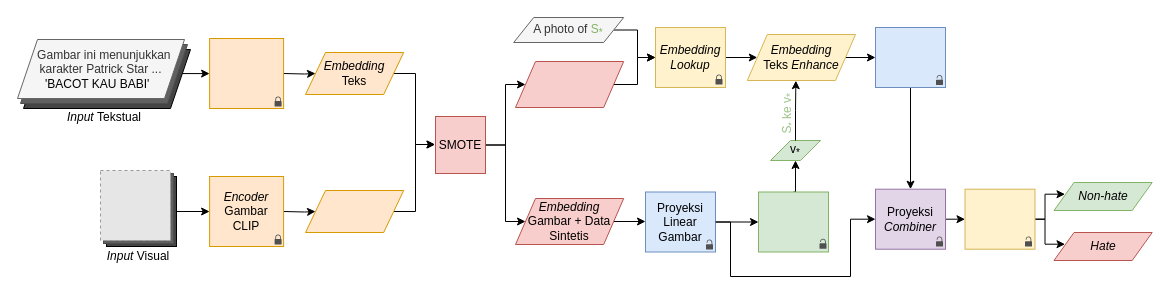
This 1170x302 diagram has some shape labels left out. Grey dashed boxes stand in for pictures. The centre of each missing label's shape, as x and y in pixels:
"Embedding Gambar" goes at (354,211).
"Embedding Teks + Data Sintetis" goes at (569,84).
"Encoder Teks CLIP atau m-CLIP" goes at (246,73).
"Inversi Tekstual ( Φ )" goes at (793,221).
"MLP Classifier" goes at (999,218).
"Proyeksi Linear Teks" goes at (910,57).
